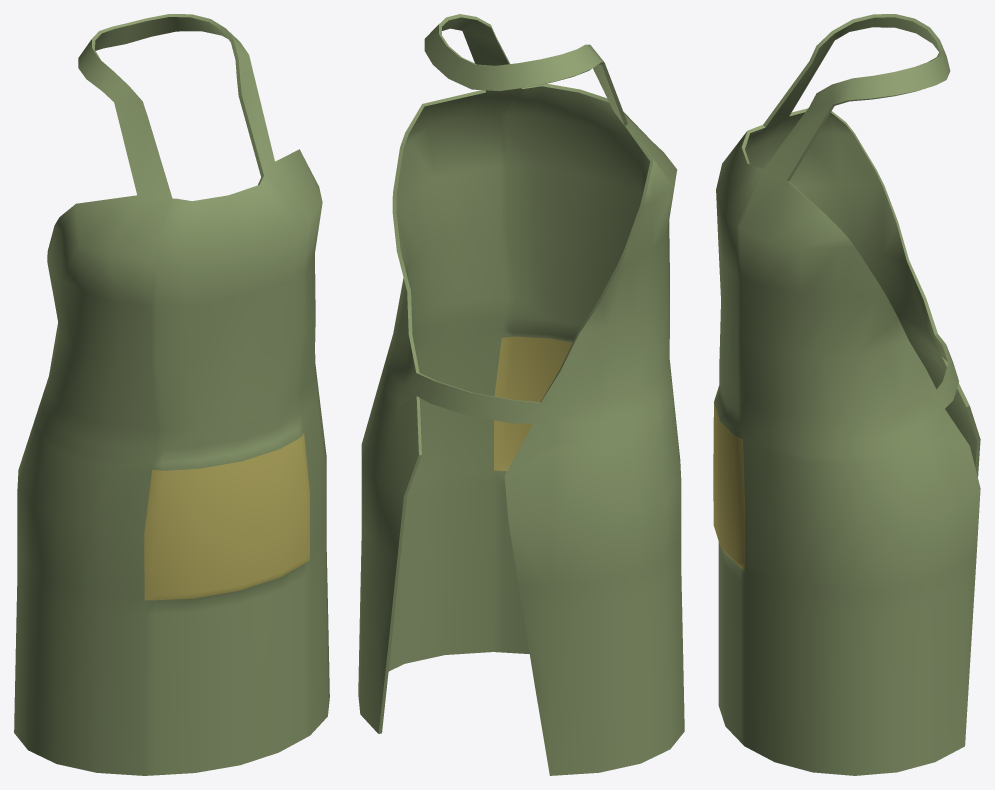
File: apron.fbx
The picture shows the model from 3 angles, left to right: view 1: azimuth 30°, elevation 25°; view 2: azimuth 150°, elevation 25°; view 3: azimuth 270°, elevation 25°; orthographic projection. The views are drawn at different scales.
Visible parts, largest first — view 1: pCylinder1; view 2: pCylinder1; view 3: pCylinder1.
Boxes of the visible parts, x1,y1,x2,y2 form: pCylinder1: (14, 14, 329, 775); pCylinder1: (358, 14, 684, 775); pCylinder1: (713, 14, 980, 775).
Size of the model in its own units: 43.06 by 95.28 by 34.78.
